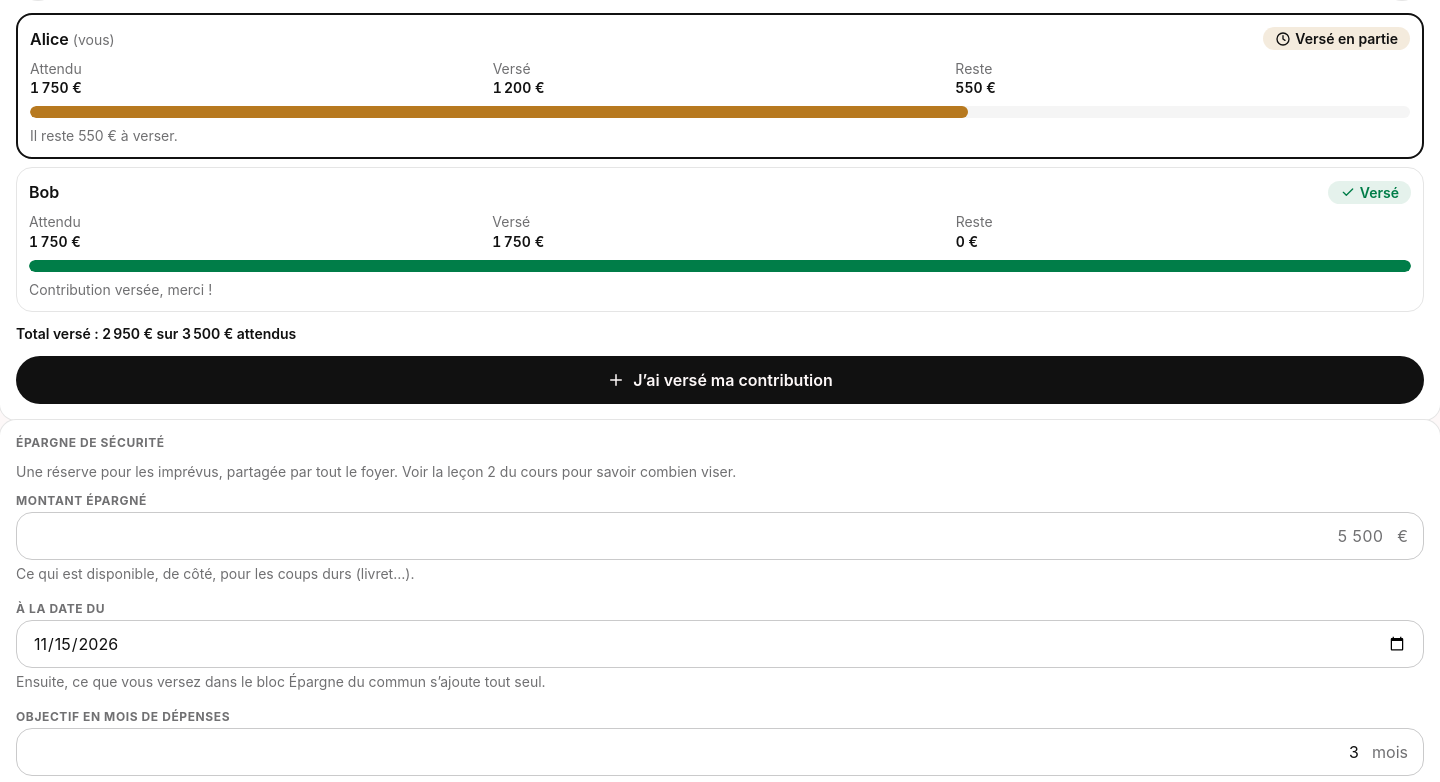
FoyerPage « Contributions du mois » › paying › opens a sheet with the remaining amount prefilled, today’s date and no personal debit
(page scrolled)
Click the button "J’ai versé ma contribution": (720, 380) [16,356,1424,404]
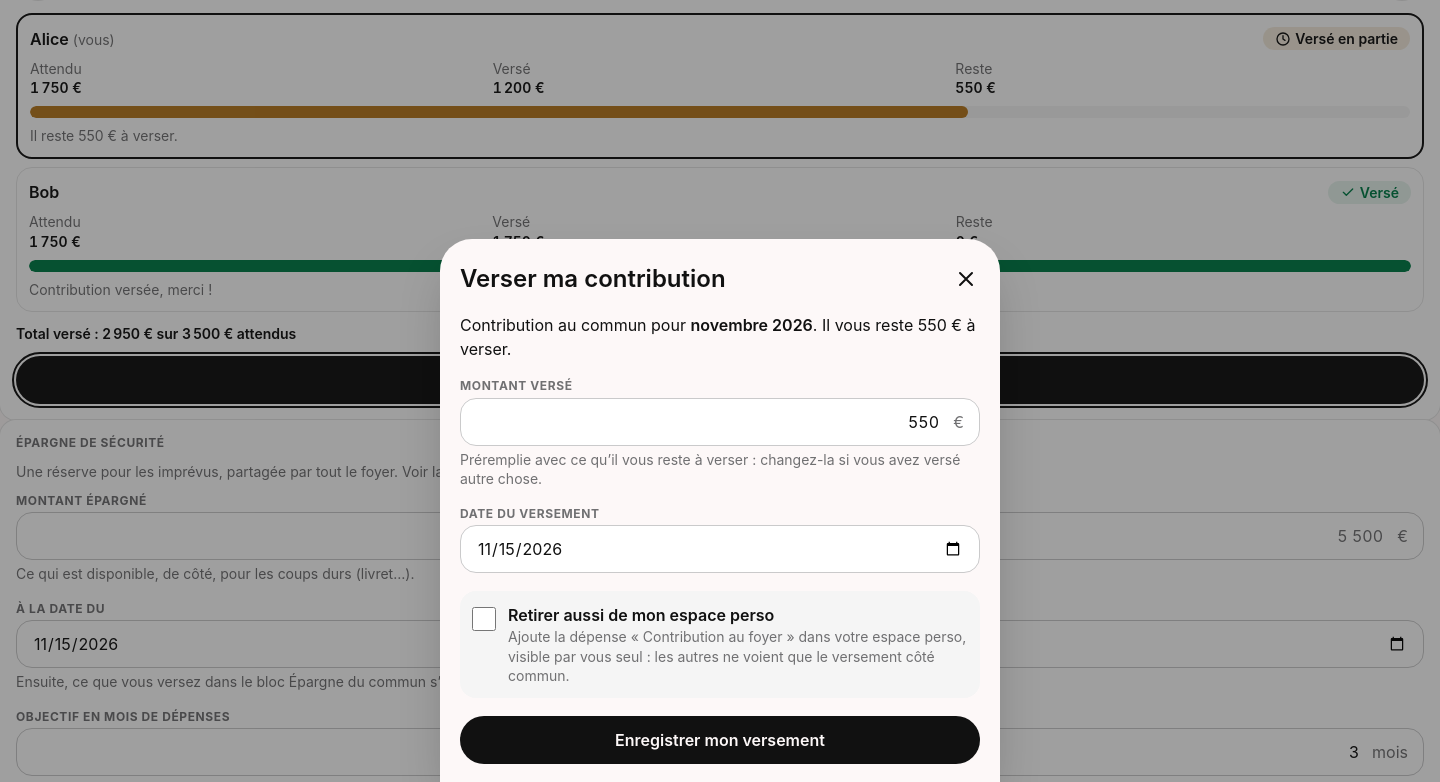
expect the field labelled "Montant versé" holds "550": met, box [460,398,980,446]
expect the date field labelled "Date du versement" holds "2026-11-15": met, box [460,525,980,573]
expect the checkbox labelled "Retirer aussi de mon espace perso" is not checked: met, box [472,607,496,631]
